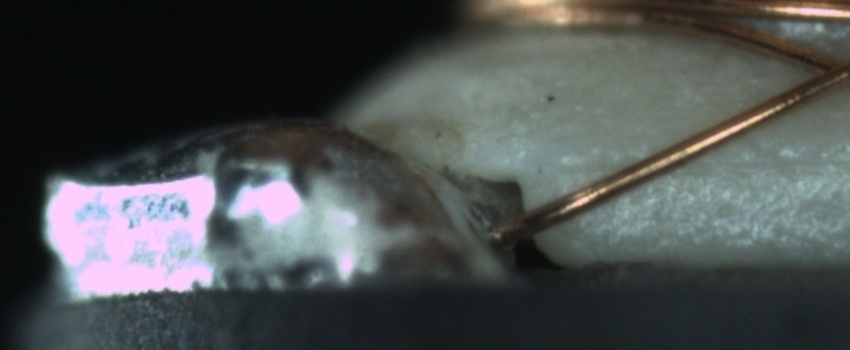CL: (795, 43, 849, 97)
DL: (567, 134, 849, 195)
